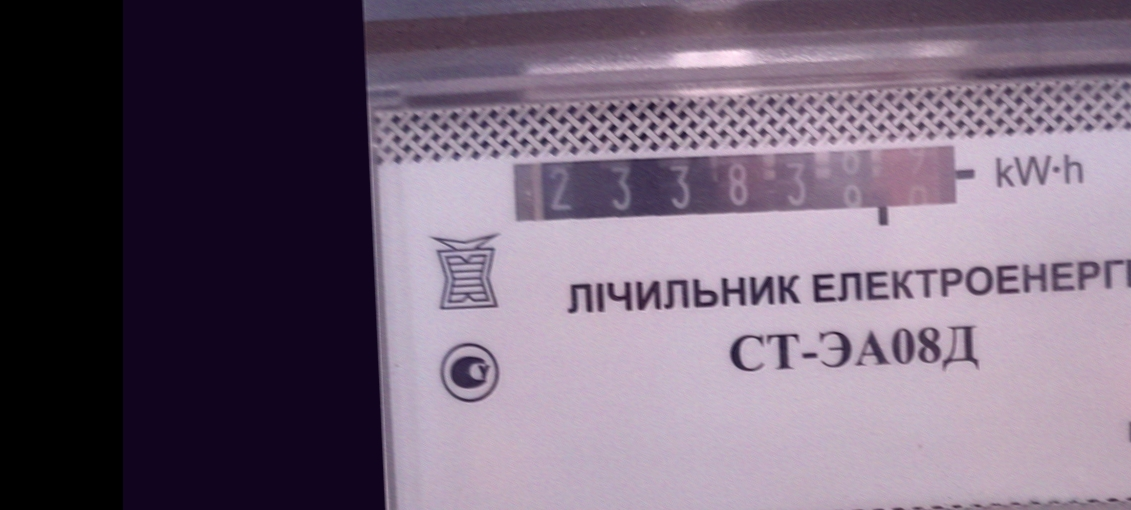0: (906, 180, 933, 206)
2: (546, 163, 576, 213)
3: (607, 162, 636, 213), (668, 161, 695, 212), (784, 158, 811, 207)
8: (725, 160, 752, 207), (838, 149, 867, 176)
9: (839, 180, 867, 210), (905, 145, 930, 174)
screen: (501, 131, 977, 245)
